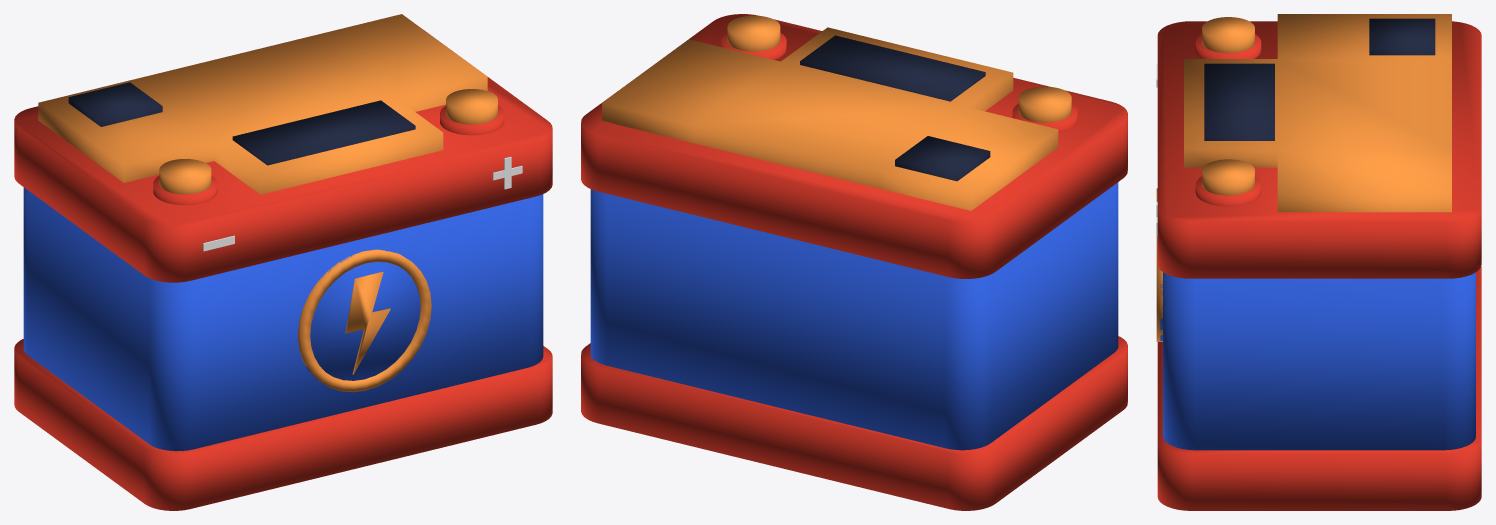
The model's file is Car Battery.glb.
3 views of the same model, side by side, from view 1: azimuth 30°, elevation 25°; view 2: azimuth 150°, elevation 25°; view 3: azimuth 270°, elevation 25° (orthographic).
Parts seen in each view (by area): view 1: Cube.001, Cube.003, Plane, Cube.002, Cylinder.069, Cube.005, Cylinder.070, Cube, Cube.004, Cylinder.003, Cylinder.001, Cylinder.002 (+1 smaller); view 2: Cube.001, Cube.003, Plane, Cube.002, Cube.005, Cube, Cylinder.001, Cylinder.003; view 3: Cube.001, Plane, Cube.003, Cube.002, Cube.005, Cube, Cylinder.001, Cylinder.003, Cylinder, Cylinder.002, Cylinder.070.
Part boxes in pixels (bbox=[...]): Cube.001: bbox=[23, 187, 543, 451]; Cube.003: bbox=[14, 46, 552, 282]; Plane: bbox=[38, 14, 487, 194]; Cube.002: bbox=[14, 339, 552, 510]; Cylinder.069: bbox=[299, 250, 420, 380]; Cube.005: bbox=[232, 100, 415, 165]; Cylinder.070: bbox=[298, 249, 431, 392]; Cube: bbox=[68, 82, 162, 126]; Cube.004: bbox=[345, 271, 390, 374]; Cylinder.003: bbox=[159, 159, 211, 194]; Cylinder.001: bbox=[446, 89, 497, 124]; Cylinder.002: bbox=[153, 175, 217, 205]; Cube.001: bbox=[590, 182, 1118, 450]; Cube.003: bbox=[581, 14, 1127, 278]; Plane: bbox=[602, 27, 1058, 210]; Cube.002: bbox=[581, 336, 1127, 510]; Cube.005: bbox=[800, 35, 985, 101]; Cube: bbox=[895, 136, 990, 181]; Cylinder.001: bbox=[727, 15, 780, 51]; Cylinder.003: bbox=[1018, 86, 1071, 122]; Cube.001: bbox=[1163, 272, 1475, 450]; Plane: bbox=[1184, 14, 1451, 212]; Cube.003: bbox=[1157, 21, 1481, 278]; Cube.002: bbox=[1157, 267, 1481, 510]; Cube.005: bbox=[1204, 63, 1274, 140]; Cube: bbox=[1369, 18, 1435, 55]; Cylinder.001: bbox=[1202, 159, 1254, 195]; Cylinder.003: bbox=[1202, 17, 1254, 53]; Cylinder: bbox=[1195, 176, 1261, 206]; Cylinder.002: bbox=[1195, 34, 1261, 58]; Cylinder.070: bbox=[1156, 188, 1162, 341].
Size of the model in its own units: 2.13 by 1.55 by 1.46.
